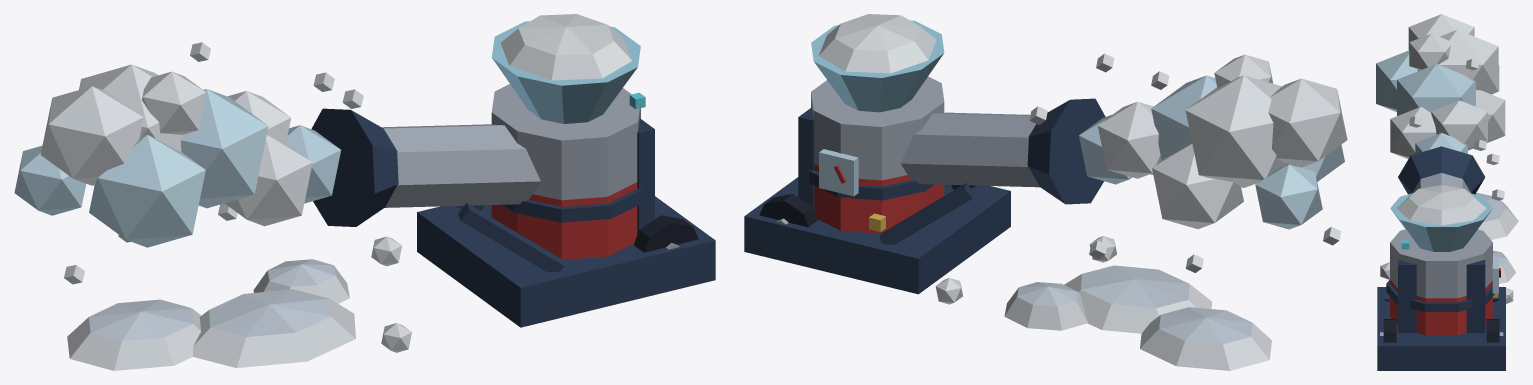
Rendered from Decor_IcePalace_Cannon.fbx.
3 views of the same model, side by side, from view 1: azimuth 30°, elevation 25°; view 2: azimuth 150°, elevation 25°; view 3: azimuth 270°, elevation 25° (orthographic). The views are drawn at different scales.
Visible parts, largest first — view 1: Cannon_Body; view 2: Cannon_Body; view 3: Cannon_Body.
Boxes of the visible parts, <box> form: Cannon_Body: <box>14,14,715,370</box>; Cannon_Body: <box>744,14,1347,370</box>; Cannon_Body: <box>1376,14,1518,370</box>.
Size of the model in its own units: 18.9 by 8.9 by 6.1.
